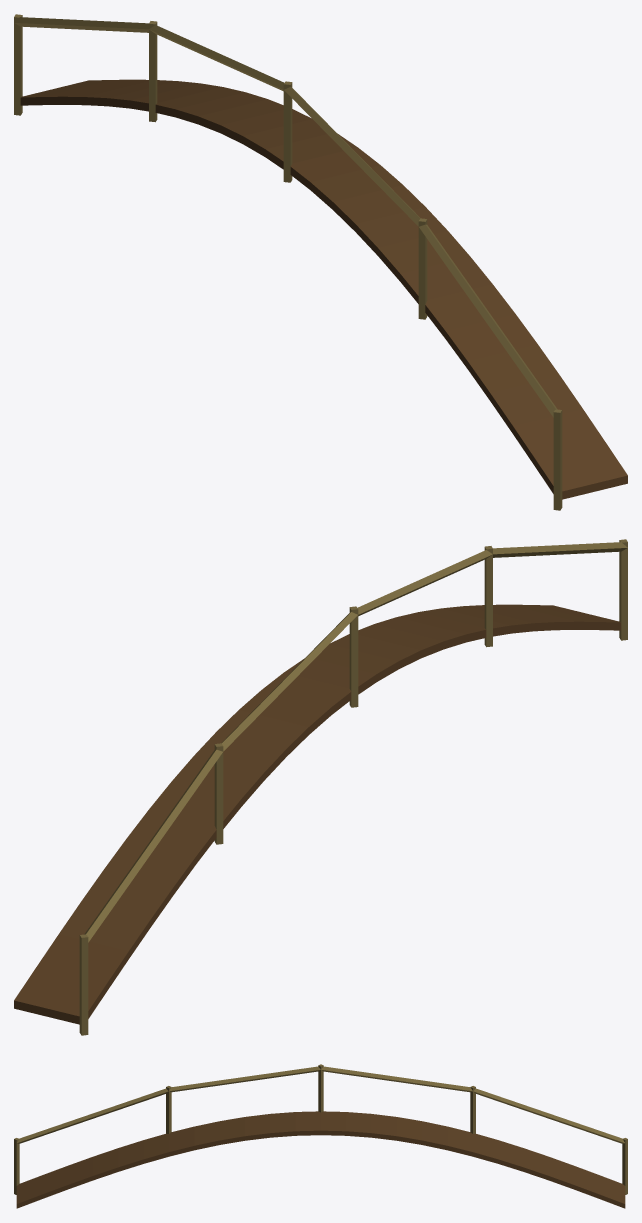
Rendered from monkey-far.glb.
The picture shows the model from 3 angles, top to bottom: view 1: azimuth 30°, elevation 25°; view 2: azimuth 150°, elevation 25°; view 3: azimuth 270°, elevation 25°; orthographic projection. The views are drawn at different scales.
Visible parts, largest first — view 1: monkey-far; view 2: monkey-far; view 3: monkey-far.
Part boxes in pixels (x1,y1,x2,y2): monkey-far: (14, 14, 627, 510); monkey-far: (14, 539, 627, 1035); monkey-far: (14, 1064, 627, 1208).
Size of the model in its own units: 0.955 by 2.8 by 12.11.
